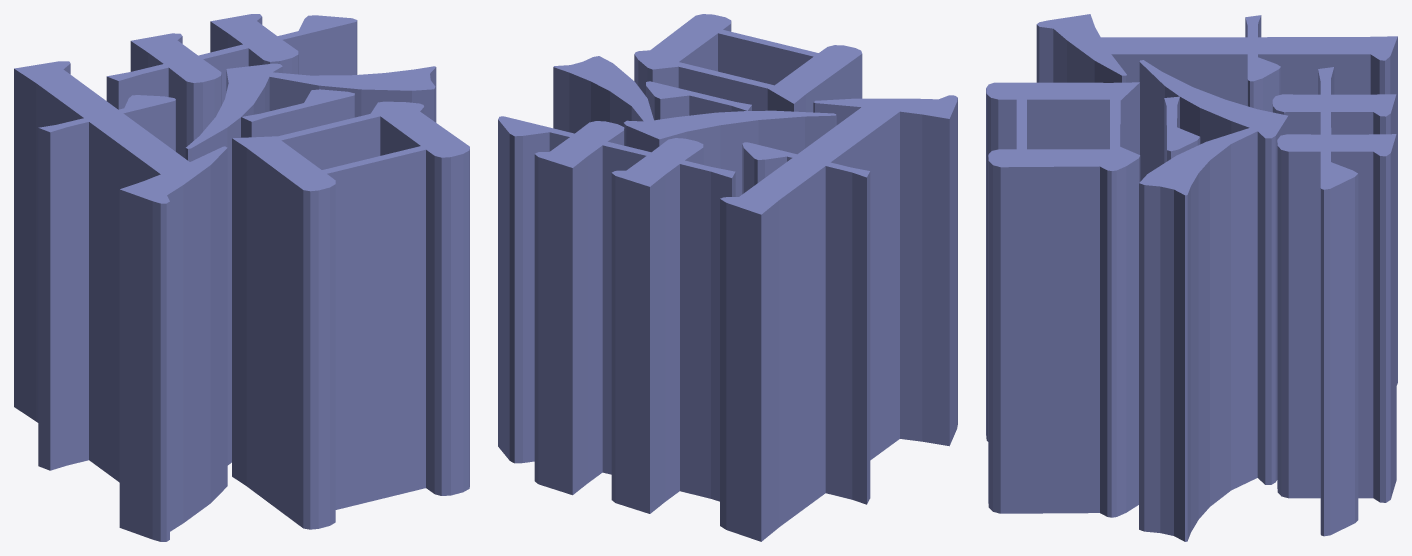
File: moji_tou.obj
3 views of the same model, side by side, from view 1: azimuth 30°, elevation 25°; view 2: azimuth 150°, elevation 25°; view 3: azimuth 270°, elevation 25° (orthographic). The views are drawn at different scales.
Parts seen in each view (by area): view 1: Text; view 2: Text; view 3: Text.
Part boxes in pixels (x1,y1,x2,y2): Text: (14,14,469,541); Text: (498,14,957,541); Text: (986,14,1397,541).
Size of the model in its own units: 0.5613 by 0.5 by 0.5385.
